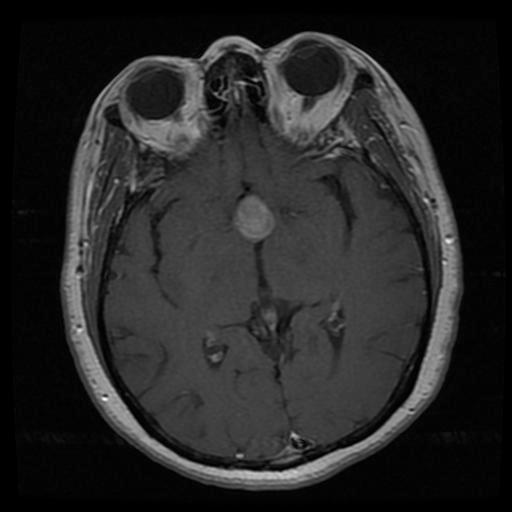Tumour-Pituitary: (234, 192, 279, 246)
